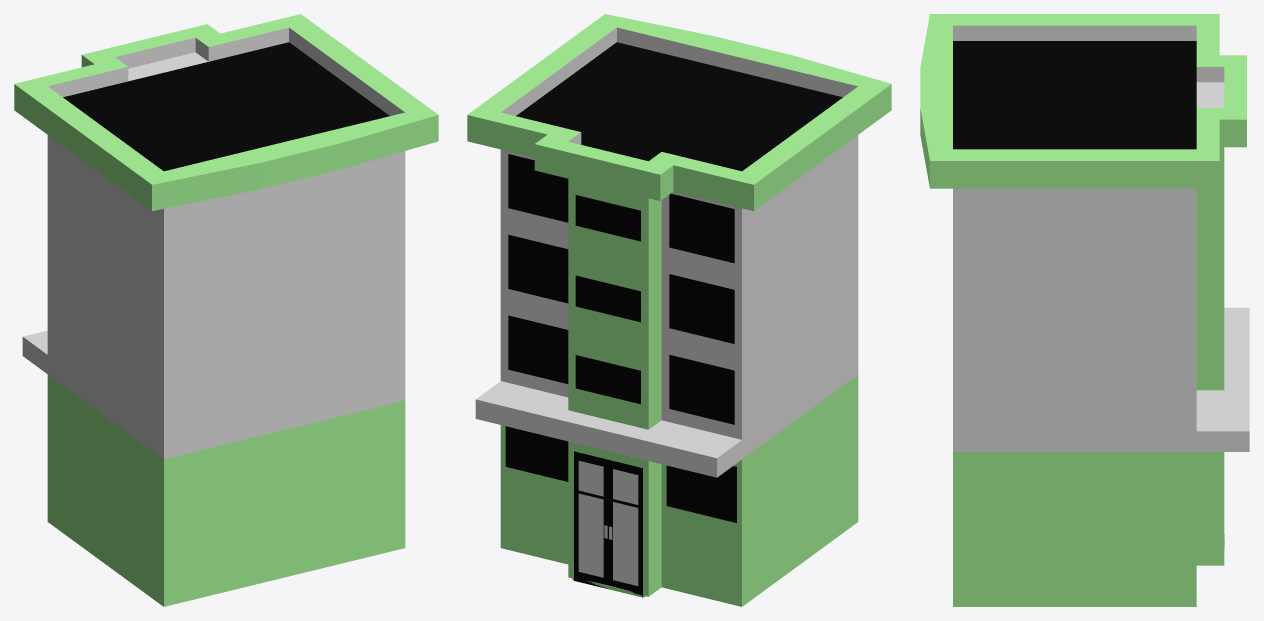
File: apartment.fbx
3 renders of one model, left to right at view 1: azimuth 30°, elevation 25°; view 2: azimuth 150°, elevation 25°; view 3: azimuth 270°, elevation 25°, orthographic. The views are drawn at different scales.
Visible parts, largest first — view 1: Bulding_001; view 2: Bulding_001; view 3: Bulding_001.
Part boxes in pixels (bbox=[...]): Bulding_001: bbox=[14, 14, 438, 606]; Bulding_001: bbox=[467, 14, 891, 606]; Bulding_001: bbox=[920, 14, 1249, 606].
Size of the model in its own units: 9393 by 13709 by 8889.
